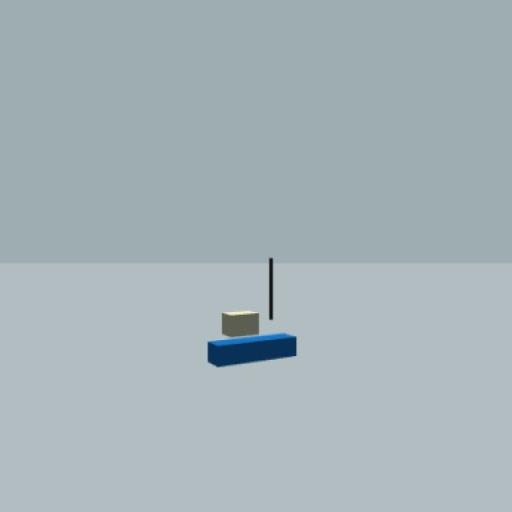fishing_boat: (208, 258, 298, 368)
